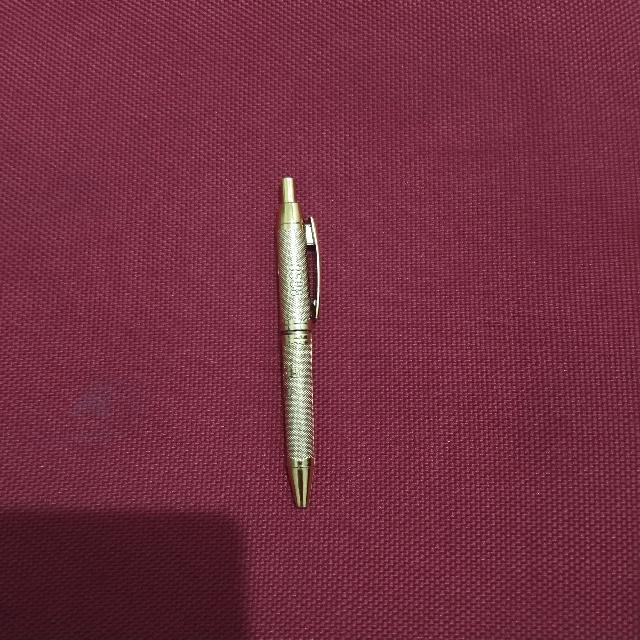signature pen: (277, 177, 319, 506)
